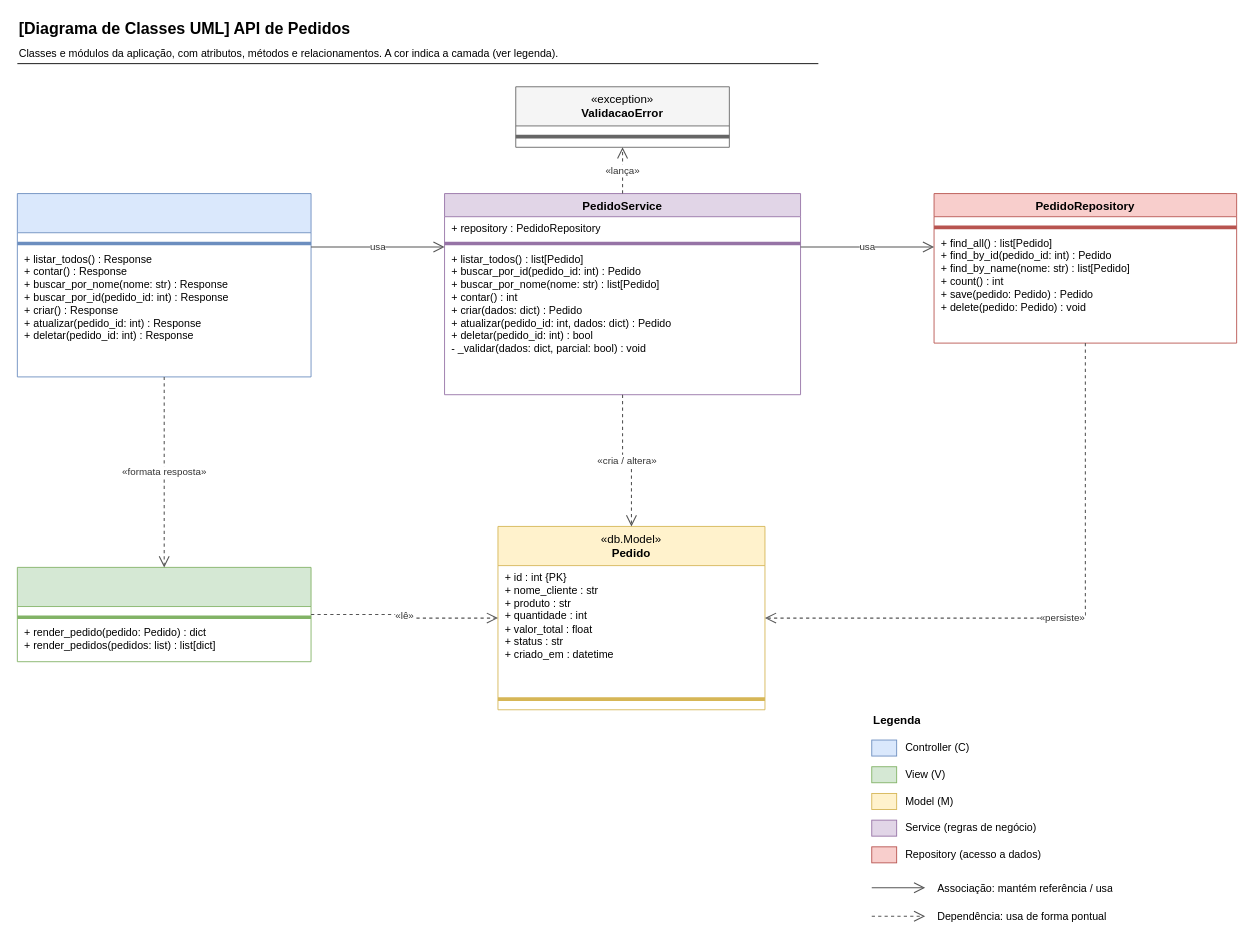
Image size: 1253x943. Some labels were removed from this diagram. Each missing label, with the box of its shape:
«Blueprint» PedidoController: (16, 193, 311, 377)
«module» PedidoView: (16, 566, 311, 662)
